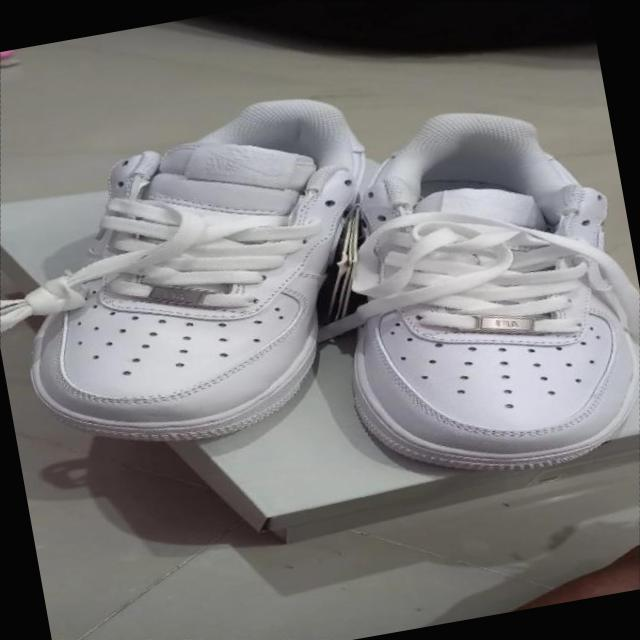nike_original_airforce: (0, 37, 431, 502), (282, 61, 640, 522)
